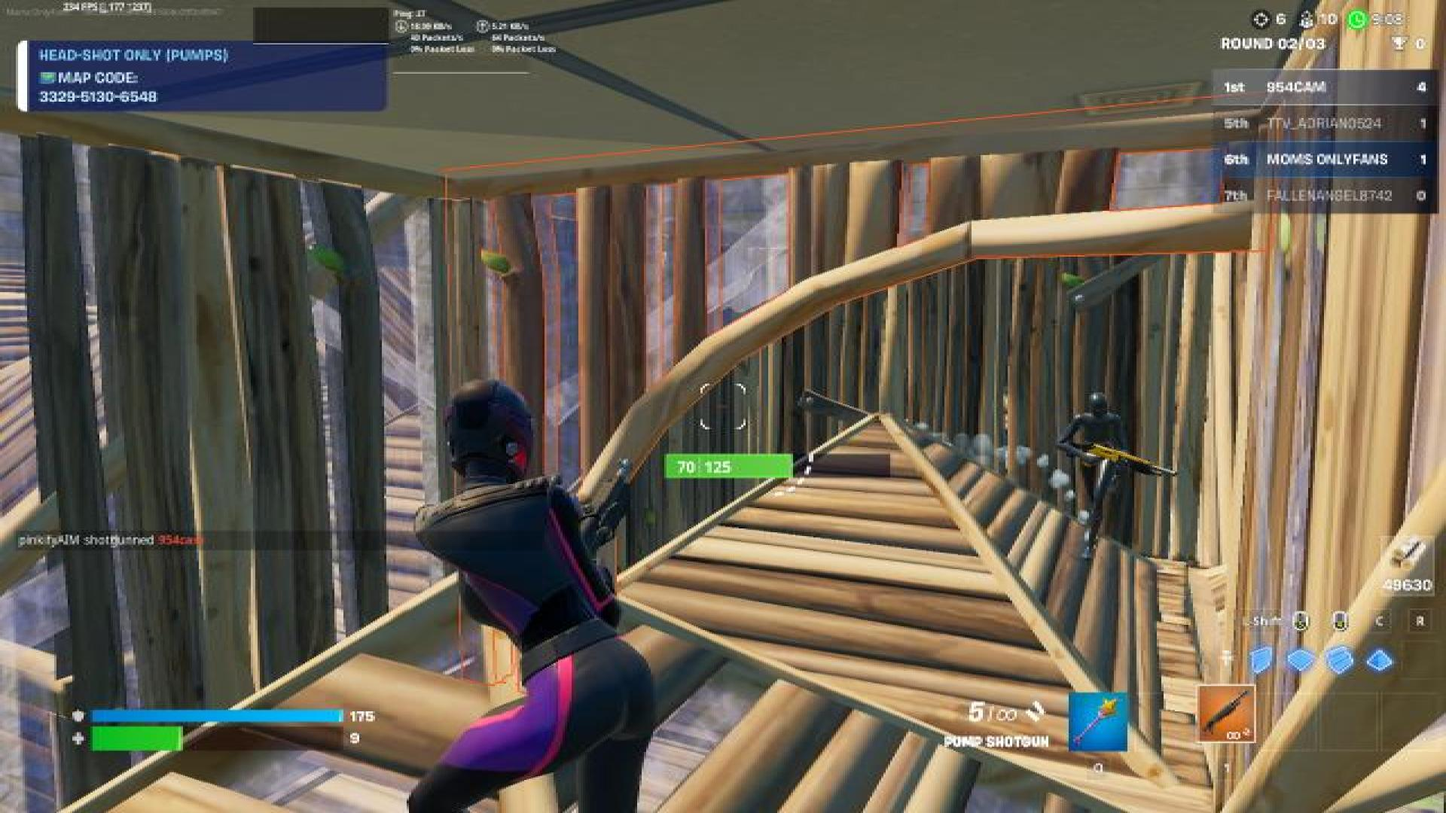player: (1055, 387, 1141, 563)
